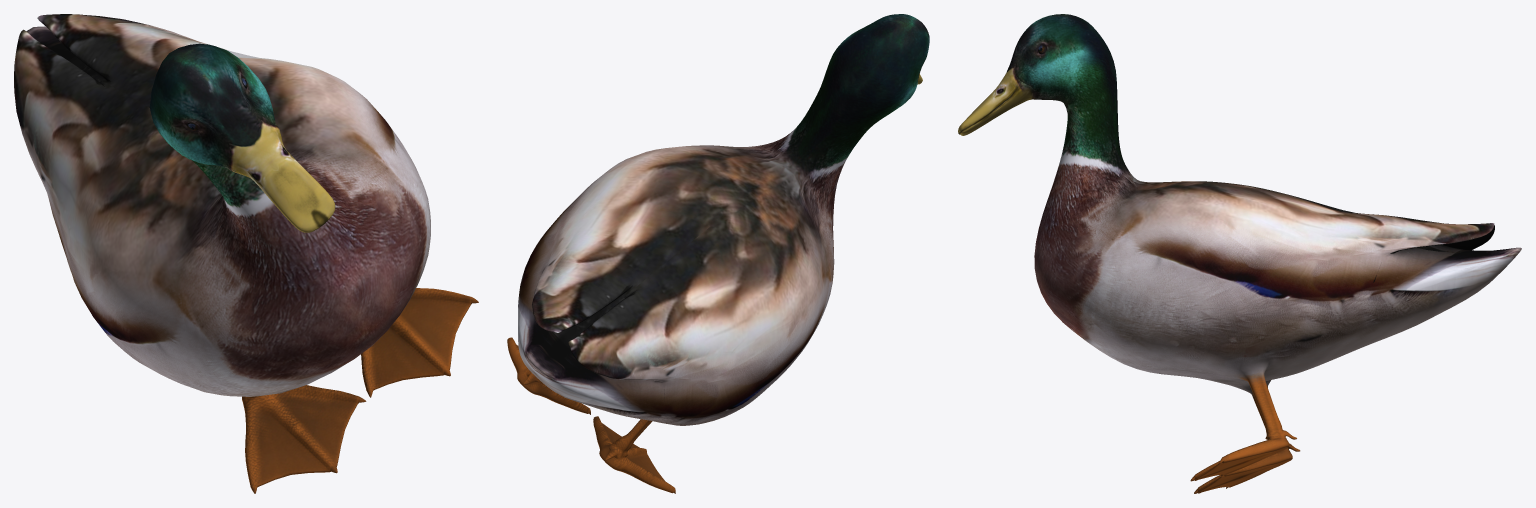
File: bird_1.glb
The picture shows the model from 3 angles, left to right: view 1: azimuth 30°, elevation 25°; view 2: azimuth 150°, elevation 25°; view 3: azimuth 270°, elevation 25°; orthographic projection. The views are drawn at different scales.
Parts seen in each view (by area): view 1: 12248_Bird_v1_L2; view 2: 12248_Bird_v1_L2; view 3: 12248_Bird_v1_L2.
Part boxes in pixels (bbox=[...]): 12248_Bird_v1_L2: bbox=[14, 14, 478, 493]; 12248_Bird_v1_L2: bbox=[507, 14, 929, 493]; 12248_Bird_v1_L2: bbox=[958, 14, 1521, 493].
Bounding box in the file's own units: 40.33 × 51.66 × 63.97.
1 material, 1 textured.
